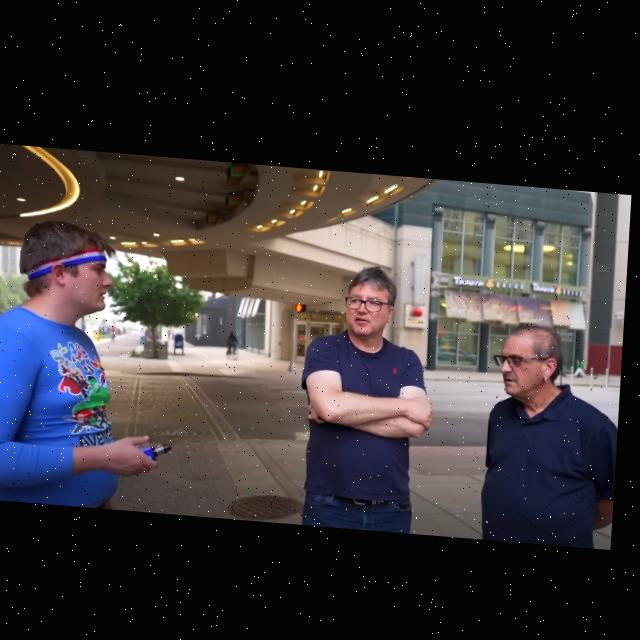vape: (147, 436, 179, 461)
